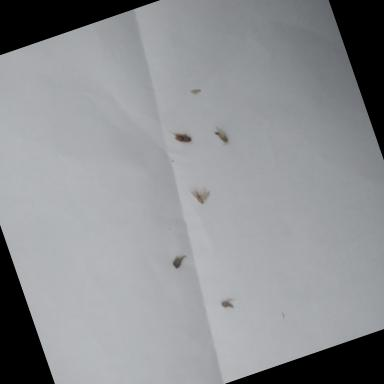pbw: (169, 124, 193, 148), (190, 185, 213, 207), (213, 124, 230, 148), (222, 298, 238, 312)
